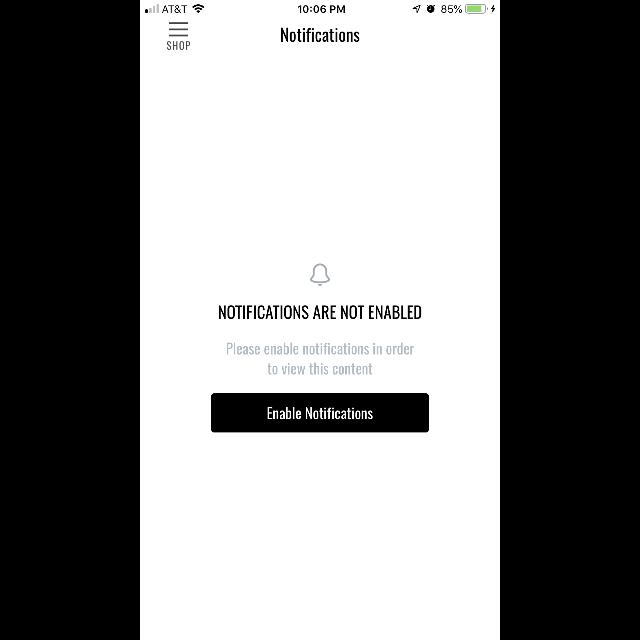icon: (310, 264, 330, 286), (170, 23, 188, 37)
text: (226, 343, 414, 375), (219, 305, 421, 319), (281, 28, 359, 42), (168, 41, 190, 50)
textbutton: (212, 393, 428, 432)
uppertaskbar: (146, 4, 496, 14)
